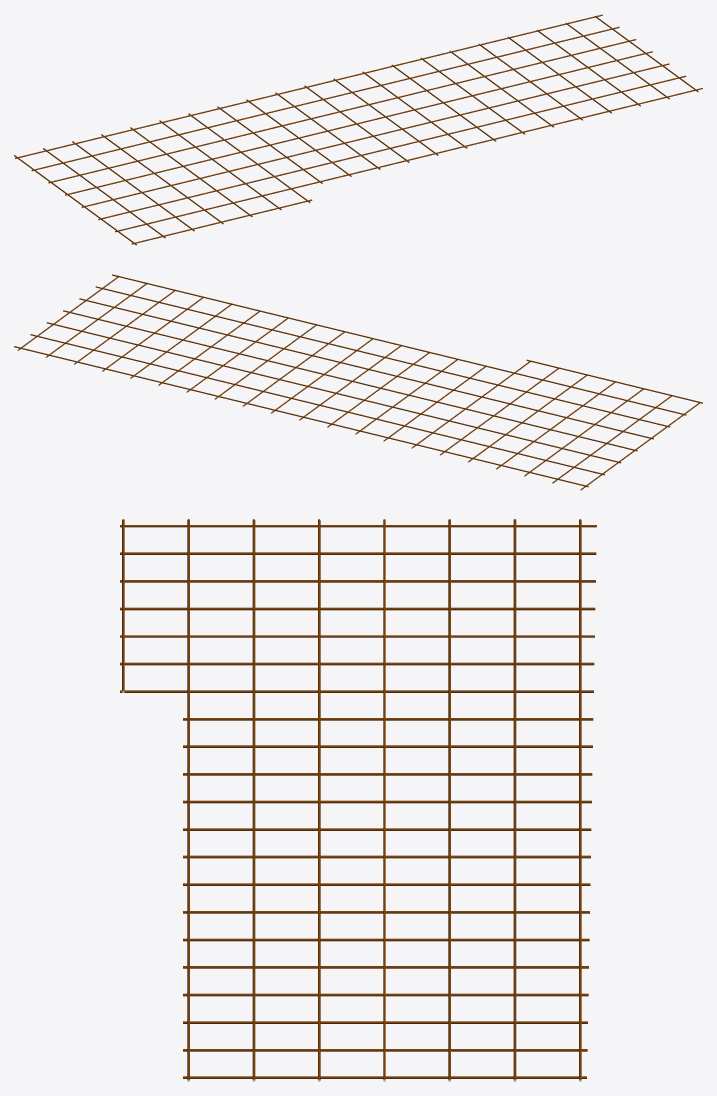
File: SE82 Reinforcing mesh sheet cut2.dae
The picture shows the model from 3 angles, top to bottom: view 1: azimuth 30°, elevation 25°; view 2: azimuth 150°, elevation 25°; view 3: azimuth 270°, elevation 25°; orthographic projection. The views are drawn at different scales.
Parts seen in each view (by area): view 1: SketchUp (×7); view 2: SketchUp (×8); view 3: SketchUp (×28).
Part boxes in pixels (x1,y1,x2,y2): SketchUp (×7): [15, 14, 702, 232]; SketchUp (×8): [14, 274, 702, 487]; SketchUp (×28): [120, 519, 596, 1080].
Size of the model in its own units: 160 by 57.51 by 0.6299.
